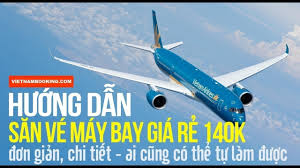maybay_dansu: (64, 25, 295, 130)
